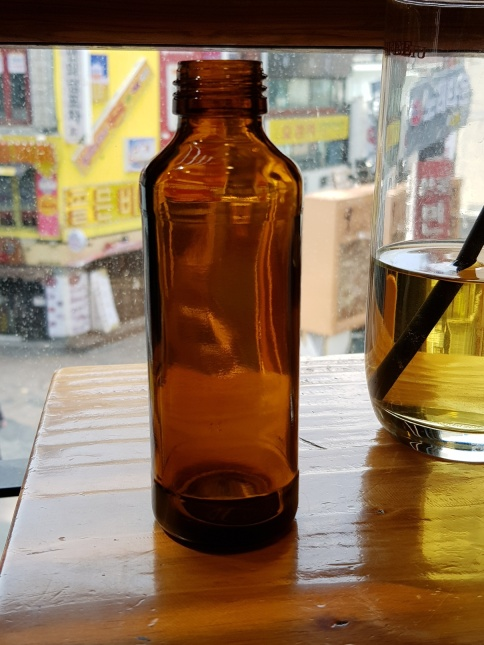Glass: (139, 55, 307, 556)
